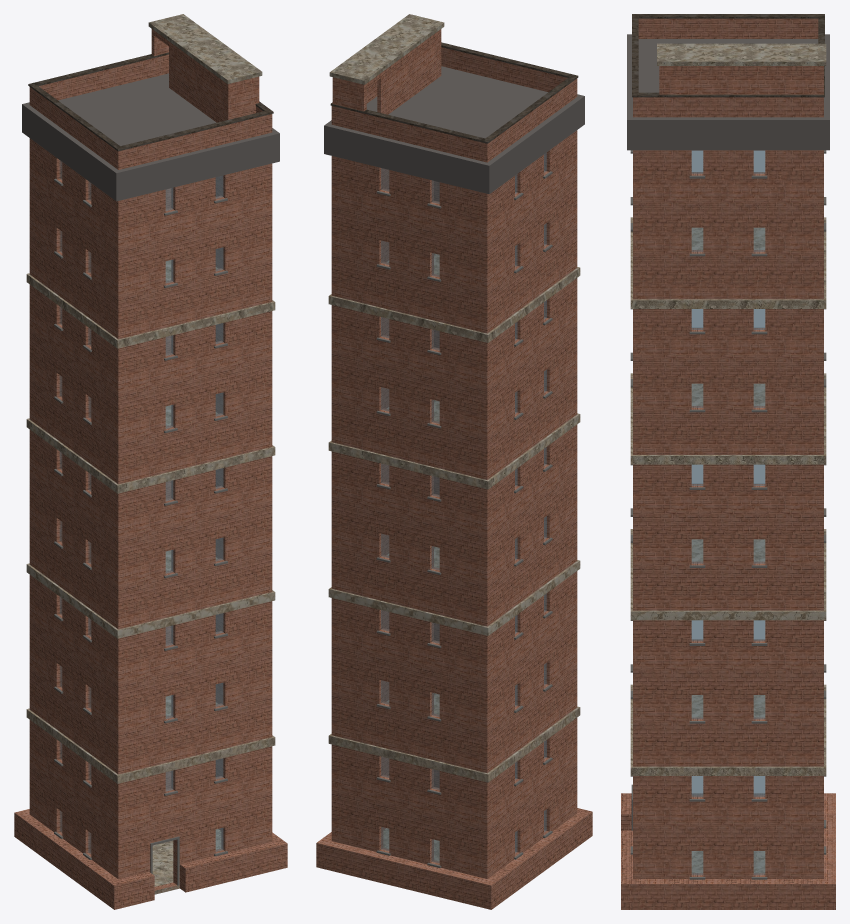
Rendered from ew-chimney.works-v1.lod1.glb.
3 renders of one model, left to right at view 1: azimuth 30°, elevation 25°; view 2: azimuth 150°, elevation 25°; view 3: azimuth 270°, elevation 25°, orthographic. The views are drawn at different scales.
Visible parts, largest first — view 1: ew-chimney; view 2: ew-chimney; view 3: ew-chimney.
Boxes of the visible parts, x1,y1,x2,y2 form: ew-chimney: (14,14,287,909); ew-chimney: (316,14,592,909); ew-chimney: (621,14,835,909).
Size of the model in its own units: 9 by 39 by 9.
Materials: 4 (2 with a texture image).
